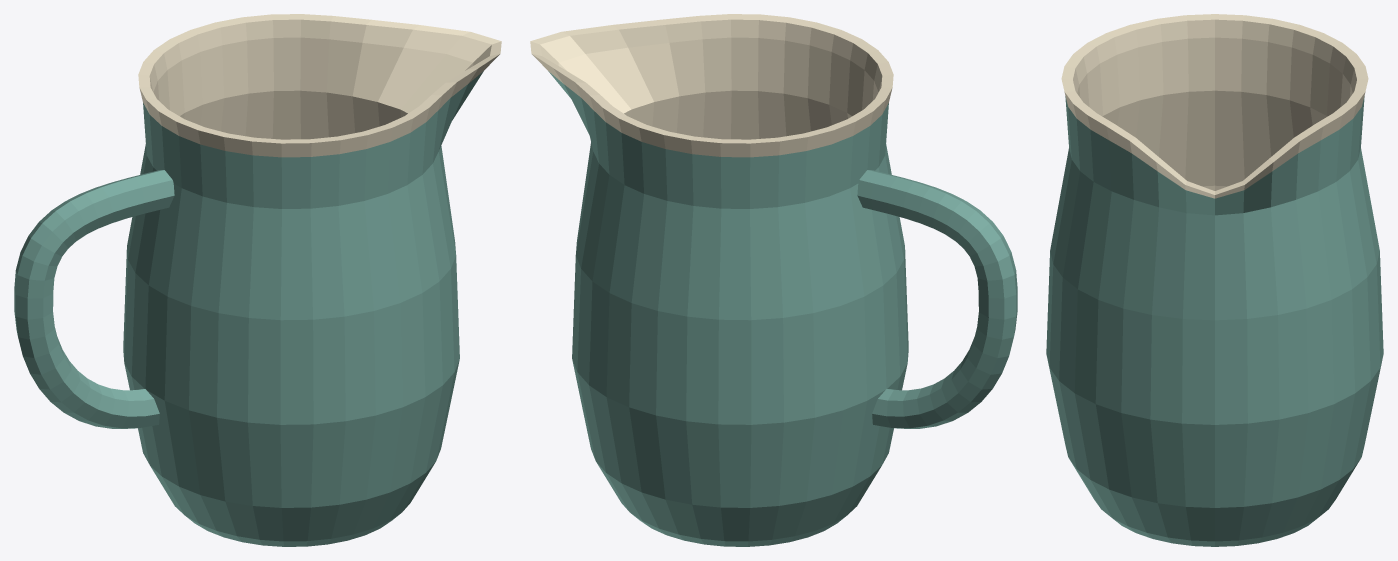
3 renders of one model, left to right at view 1: azimuth 30°, elevation 25°; view 2: azimuth 150°, elevation 25°; view 3: azimuth 270°, elevation 25°, orthographic.
Parts seen in each view (by area): view 1: Pitcher_ThickBody_IntegratedLip, Pitcher_OpenGripHandle; view 2: Pitcher_ThickBody_IntegratedLip, Pitcher_OpenGripHandle; view 3: Pitcher_ThickBody_IntegratedLip.
Part boxes in pixels (bbox=[...]): Pitcher_ThickBody_IntegratedLip: bbox=[123, 14, 501, 546]; Pitcher_OpenGripHandle: bbox=[14, 170, 174, 428]; Pitcher_ThickBody_IntegratedLip: bbox=[530, 14, 908, 546]; Pitcher_OpenGripHandle: bbox=[857, 170, 1017, 428]; Pitcher_ThickBody_IntegratedLip: bbox=[1046, 14, 1383, 546].
Size of the model in its own units: 0.296 by 0.245 by 0.178.
